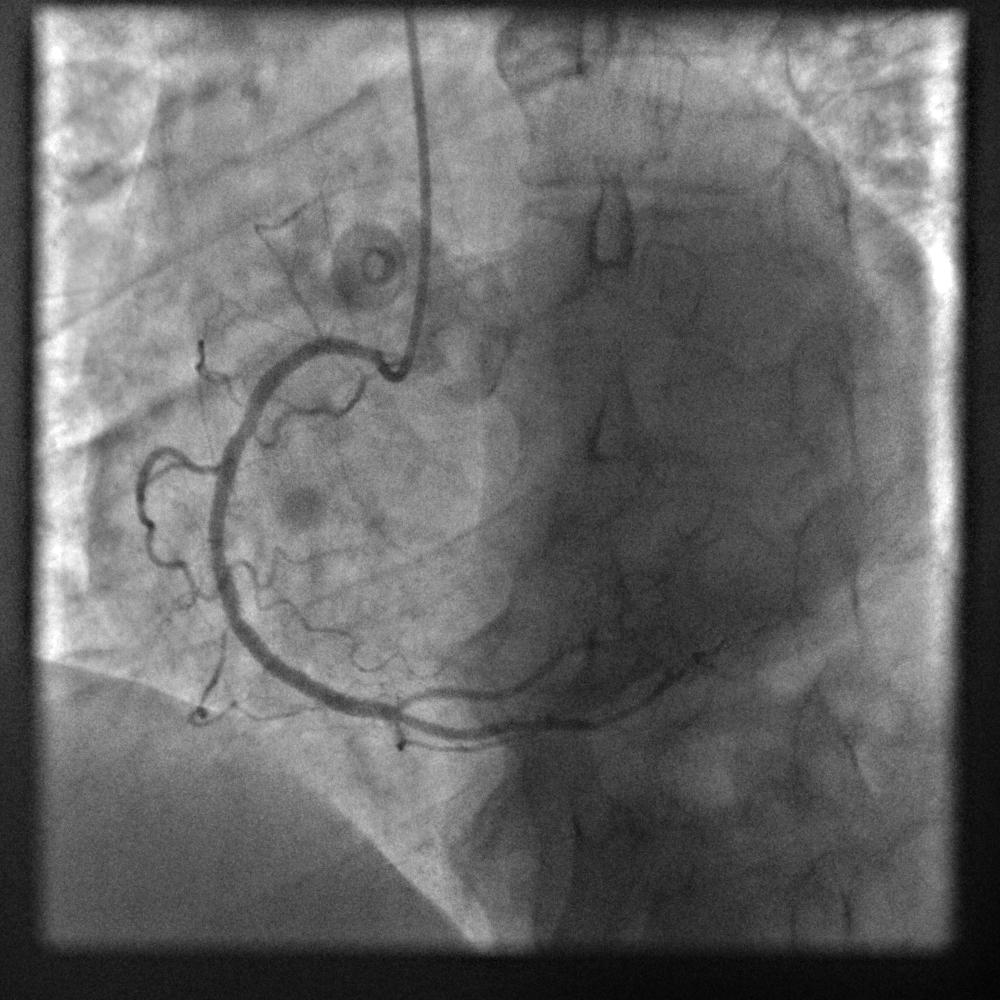Stenosis: (221, 393, 265, 456)
